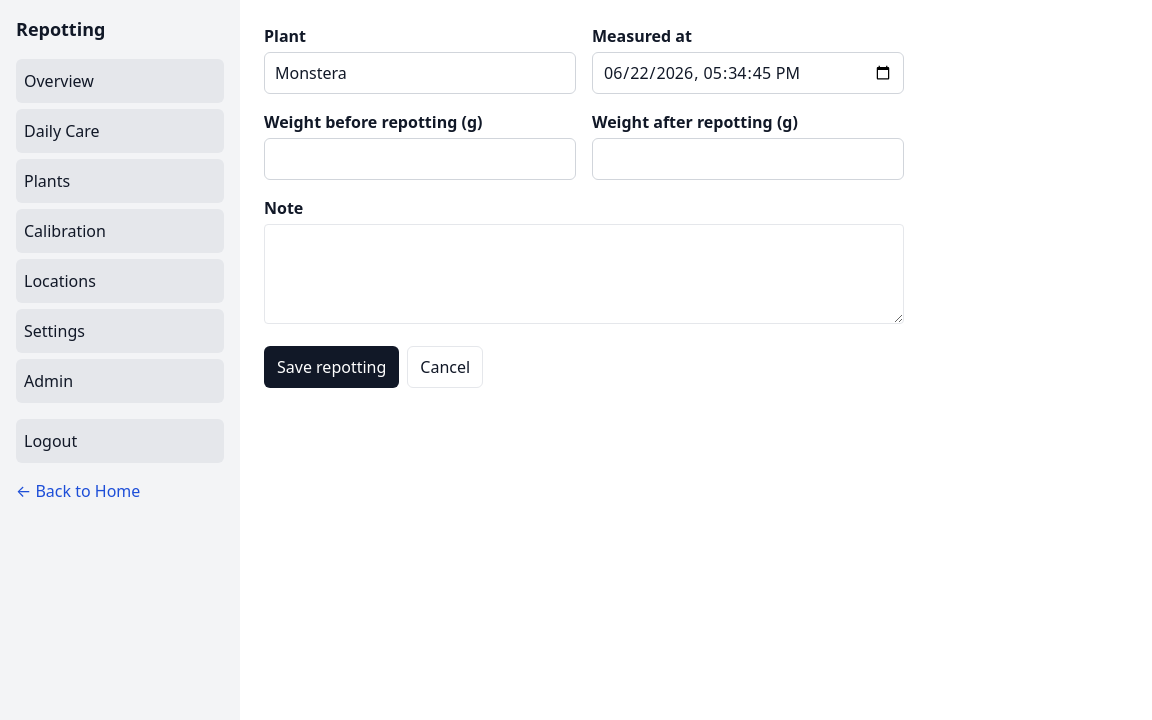
Scenario: pages/RepottingCreate › create flow: error without message falls back to generic message (catch branch)
Click the button "Save repotting" at (332, 367), box [264,346,399,388]
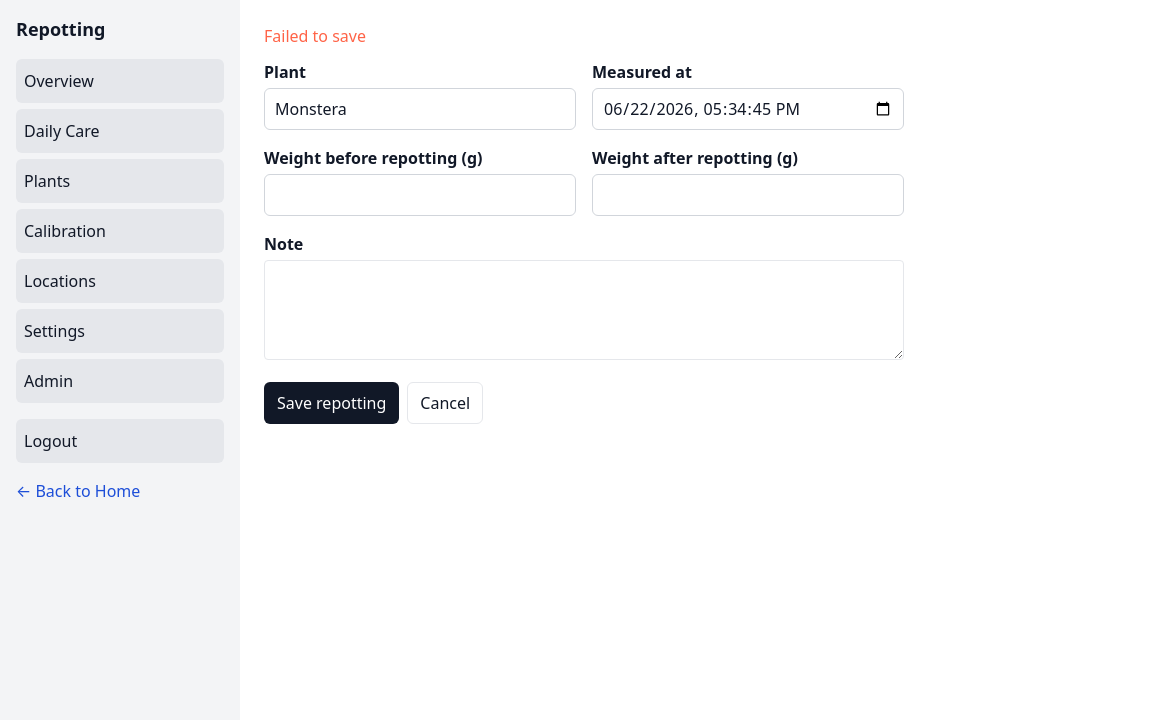
Expected: the text "Failed to save" is shown, [264,25,366,47]
